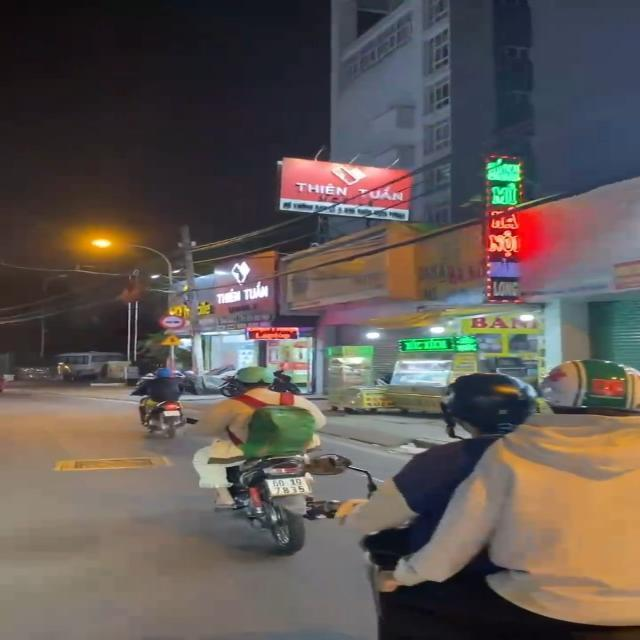125-cam-vuot: (158, 314, 186, 330)
207-giao-nhau-voi-duong-khong-uu-tien: (159, 334, 185, 346)
